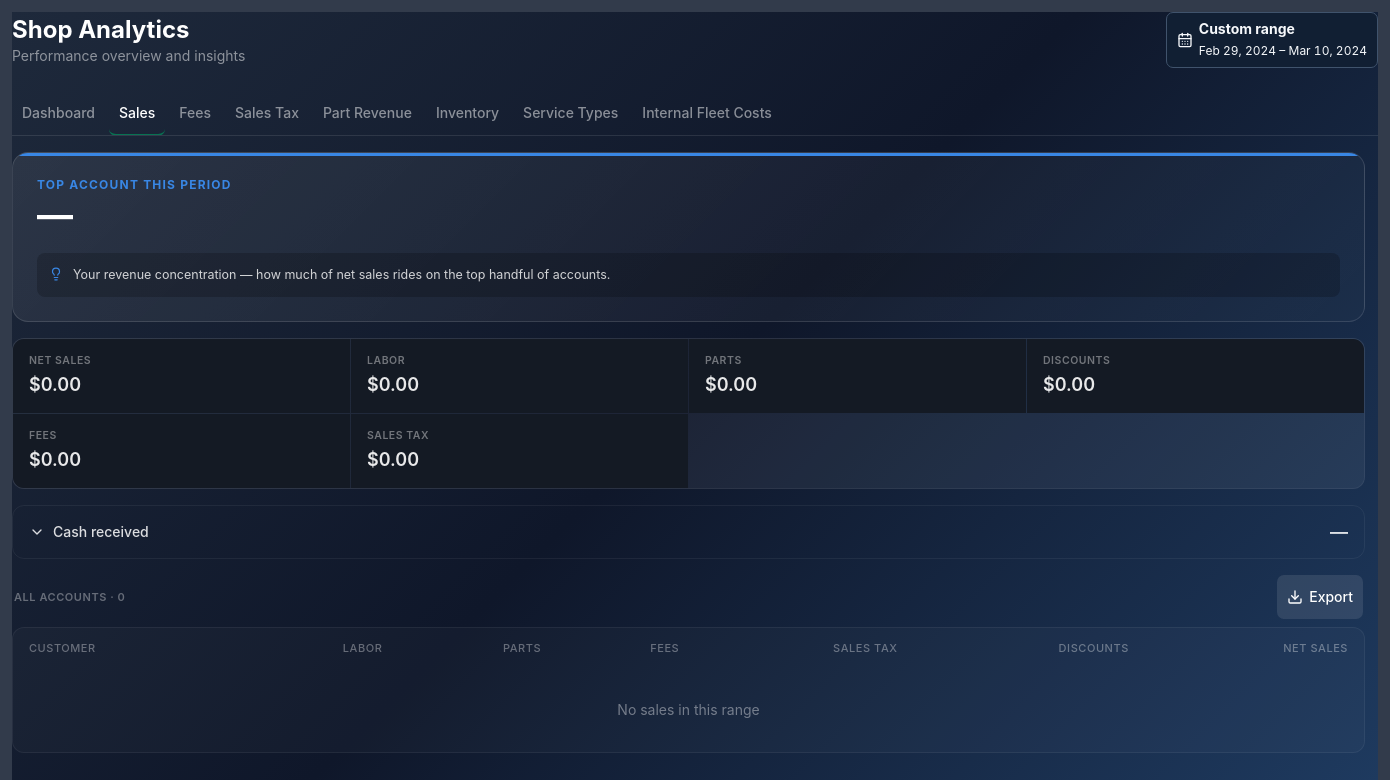
Analytics report date contract › does not invent a zero cash total when an older API lacks reporting fields
The image size is (1390, 780).
Expected: the heading "Cash received —" is shown, [29,521,1348,542]
Click the text "Cash received" at (101, 532), box [53,522,149,542]
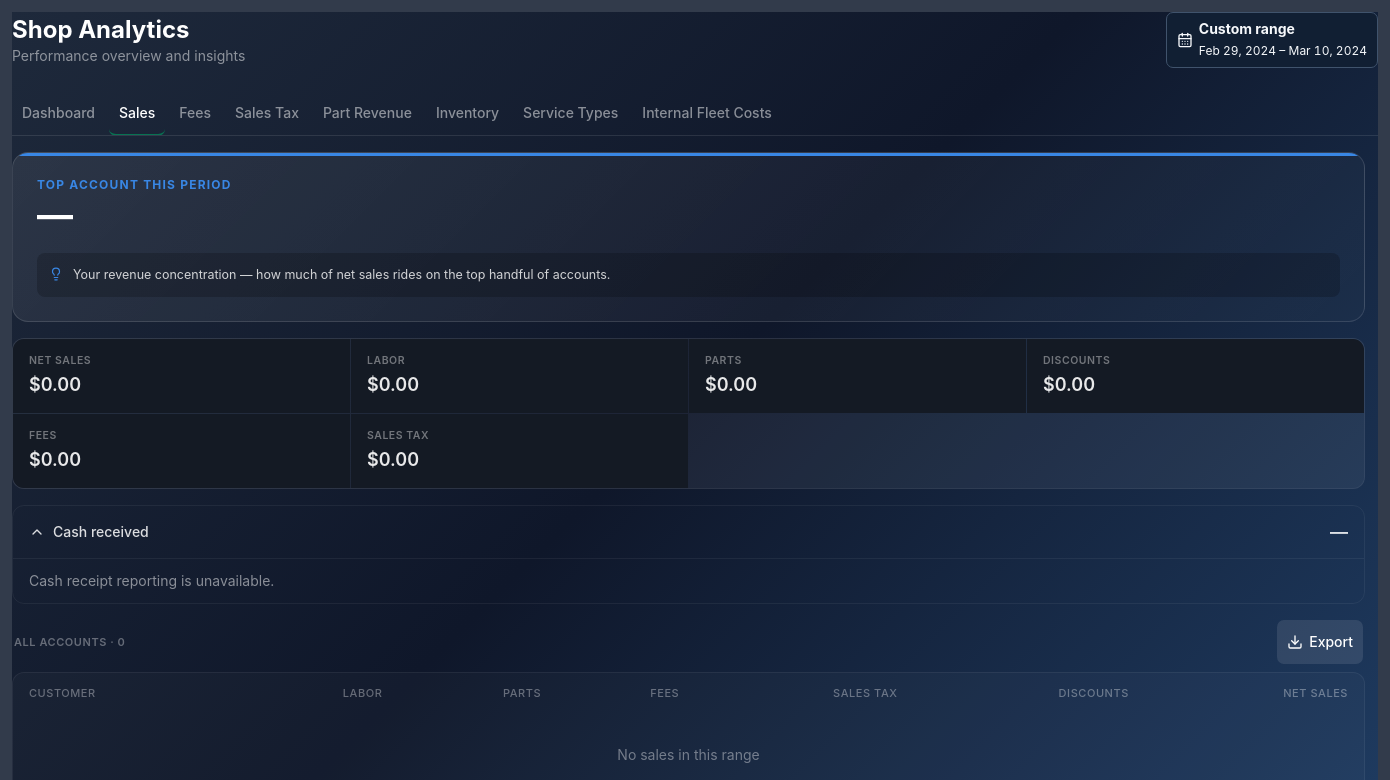
Result: the text "Cash receipt reporting is unavailable." is shown at [29,572,274,589]
